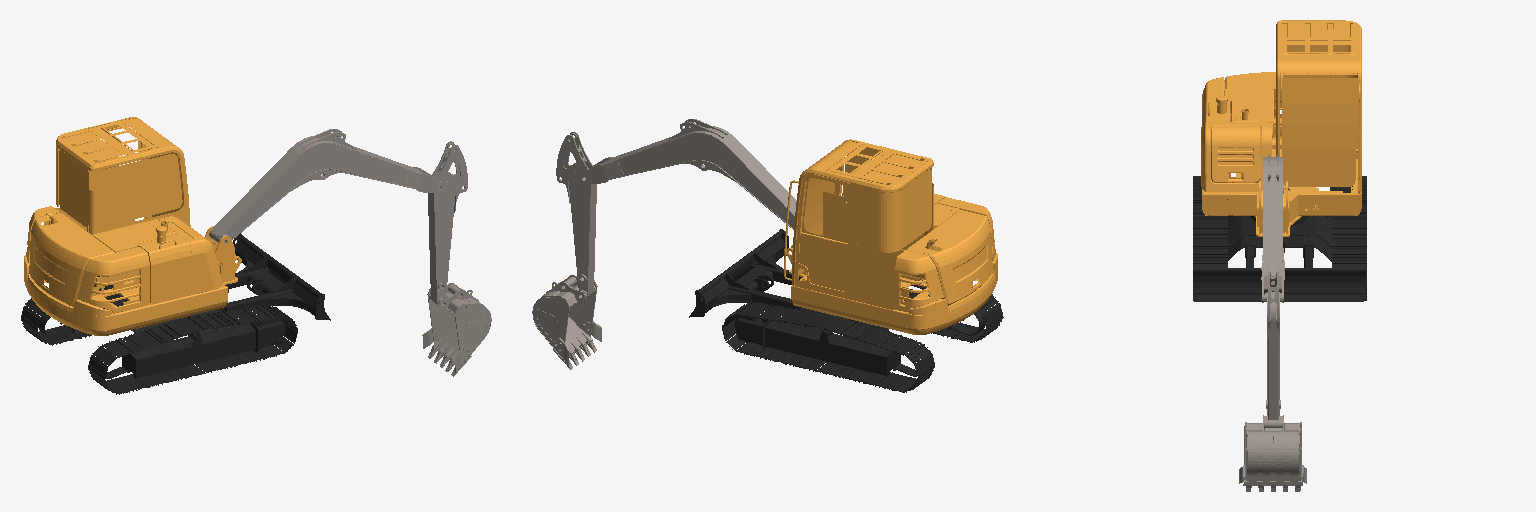
robot.urdf — marm_description:
<robot
  name="marm_description">
  <link
    name="base_link">
    <inertial>
      <origin
        xyz="0.89793 0.0045944 0.30758"
        rpy="0 0 0" />
      <mass
        value="267.05" />
      <inertia
        ixx="155.01"
        ixy="-0.23079"
        ixz="-7.049"
        iyy="160.78"
        iyz="0.044583"
        izz="307.7" />
    </inertial>
    <visual>
      <origin
        xyz="0 0 0"
        rpy="0 0 0" />
      <geometry>
        <mesh
          filename="package://marm_description/meshes/base_link.STL" />
      </geometry>
      <material
        name="">
        <color
          rgba="0.2 0.2 0.2 1" />
      </material>
    </visual>
    <collision>
      <origin
        xyz="0 0 0"
        rpy="0 0 0" />
      <geometry>
        <mesh
          filename="package://marm_description/meshes/base_link.STL" />
      </geometry>
    </collision>
  </link>
  <link
    name="link1">
    <inertial>
      <origin
        xyz="2.5943 -0.055035 0.74987"
        rpy="0 0 0" />
      <mass
        value="1896.7" />
      <inertia
        ixx="718.49"
        ixy="87.982"
        ixz="-301.34"
        iyy="4912.8"
        iyz="23.826"
        izz="4533.7" />
    </inertial>
    <visual>
      <origin
        xyz="0 0 0"
        rpy="0 0 0" />
      <geometry>
        <mesh
          filename="package://marm_description/meshes/link1.STL" />
      </geometry>
      <material
        name="">
        <color
          rgba="1 0.72157 0.32941 1" />
      </material>
    </visual>
    <collision>
      <origin
        xyz="0 0 0"
        rpy="0 0 0" />
      <geometry>
        <mesh
          filename="package://marm_description/meshes/link1.STL" />
      </geometry>
    </collision>
  </link>
  <joint
    name="joint1"
    type="revolute">
    <origin
      xyz="0 0 0.72143"
      rpy="0 0 0" />
    <parent
      link="base_link" />
    <child
      link="link1" />
    <axis
      xyz="0 0 1" />
    <limit
      lower="-3.14"
      upper="3.14"
      effort="0"
      velocity="0" />
  </joint>
  <link
    name="link2">
    <inertial>
      <origin
        xyz="1.4069 0.51583 0.00043141"
        rpy="0 0 0" />
      <mass
        value="1149.7" />
      <inertia
        ixx="62.889"
        ixy="-4.0888"
        ixz="-0.60716"
        iyy="575.38"
        iyz="0.16274"
        izz="629.63" />
    </inertial>
    <visual>
      <origin
        xyz="0 0 0"
        rpy="0 0 0" />
      <geometry>
        <mesh
          filename="package://marm_description/meshes/link2.STL" />
      </geometry>
      <material
        name="">
        <color
          rgba="0.64706 0.61961 0.58824 1" />
      </material>
    </visual>
    <collision>
      <origin
        xyz="0 0 0"
        rpy="0 0 0" />
      <geometry>
        <mesh
          filename="package://marm_description/meshes/link2.STL" />
      </geometry>
    </collision>
  </link>
  <joint
    name="joint2"
    type="revolute">
    <origin
      xyz="0.78 -0.07 0.548"
      rpy="1.5708 0 0" />
    <parent
      link="link1" />
    <child
      link="link2" />
    <axis
      xyz="0 0 1" />
     <limit
      lower="-0.1719"
      upper="1.1526"
      effort="0"
      velocity="0" />
  </joint>
  <link
    name="link3">
    <inertial>
      <origin
        xyz="0.64616 0.054458 1.9617E-05"
        rpy="0 0 0" />
      <mass
        value="308.3" />
      <inertia
        ixx="1.9786"
        ixy="3.3846"
        ixz="0.0039077"
        iyy="62.708"
        iyz="0.00032934"
        izz="63.701" />
    </inertial>
    <visual>
      <origin
        xyz="0 0 0"
        rpy="0 0 0" />
      <geometry>
        <mesh
          filename="package://marm_description/meshes/link3.STL" />
      </geometry>
      <material
        name="">
        <color
          rgba="0.64706 0.61961 0.58824 1" />
      </material>
    </visual>
    <collision>
      <origin
        xyz="0 0 0"
        rpy="0 0 0" />
      <geometry>
        <mesh
          filename="package://marm_description/meshes/link3.STL" />
      </geometry>
    </collision>
  </link>
  <joint
    name="joint3"
    type="revolute">
    <origin
      xyz="3 0 -0.0005"
      rpy="0 0 0" />
    <parent
      link="link2" />
    <child
      link="link3" />
    <axis
      xyz="0 0 1" />
   <limit
      lower="-2.5265"
      upper="-0.5544"
      effort="0"
      velocity="0" />
  </joint>
  <link
    name="link4">
    <inertial>
      <origin
        xyz="0.22788 0.1819 0.02514"
        rpy="0 0 0" />
      <mass
        value="136.04" />
      <inertia
        ixx="8.3836"
        ixy="-0.63526"
        ixz="-0.39851"
        iyy="17.276"
        iyz="0.19387"
        izz="14.026" />
    </inertial>
    <visual>
      <origin
        xyz="0 0 0"
        rpy="0 0 0" />
      <geometry>
        <mesh
          filename="package://marm_description/meshes/link4.STL" />
      </geometry>
      <material
        name="">
        <color
          rgba="0.64706 0.61961 0.58824 1" />
      </material>
    </visual>
    <collision>
      <origin
        xyz="0 0 0"
        rpy="0 0 0" />
      <geometry>
        <mesh
          filename="package://marm_description/meshes/link4.STL" />
      </geometry>
    </collision>
  </link>
  <joint
    name="joint4"
    type="revolute">
    <origin
      xyz="1.55 0 -0.0005"
      rpy="0 0 0" />
    <parent
      link="link3" />
    <child
      link="link4" />
    <axis
      xyz="0 0 1" />
     <limit
      lower="-2.4107"
      upper="0.578"
      effort="0"
      velocity="0" />
  </joint>
  <link
    name="tip_link" />
  <joint
    name="tip_joint"
    type="fixed">
    <origin
      xyz="0.89258 0 0"
      rpy="0 0 0" />
    <parent
      link="link4" />
    <child
      link="tip_link" />
    <axis
      xyz="0 0 0" />
  </joint>
</robot>

--- Facts derived from the render (not from the file) ---
Views: 3 orthographic renders of the robot side by side, from view 1: azimuth 30°, elevation 25°; view 2: azimuth 150°, elevation 25°; view 3: azimuth 270°, elevation 25°.
Model marm_description with 6 links and 5 joints (4 revolute, 1 fixed), rooted at base_link, posed joints at zero except 1 at the middle of their limits (joint3 = -1.54).
Visible links, largest first — view 1: link1, base_link, link2, link4, link3; view 2: link1, base_link, link2, link4, link3; view 3: link1, base_link, link4, link2, link3.
Link boxes in pixels (left/top/right/bottom): link1: left=24, top=117, right=241, bottom=335; base_link: left=21, top=233, right=330, bottom=394; link2: left=209, top=129, right=444, bottom=243; link4: left=422, top=283, right=491, bottom=376; link3: left=428, top=141, right=467, bottom=305; link1: left=784, top=139, right=997, bottom=334; base_link: left=689, top=229, right=1003, bottom=392; link2: left=579, top=119, right=796, bottom=229; link4: left=532, top=275, right=601, bottom=369; link3: left=556, top=132, right=596, bottom=297; link1: left=1201, top=20, right=1361, bottom=236; base_link: left=1193, top=176, right=1366, bottom=301; link4: left=1239, top=415, right=1306, bottom=491; link2: left=1261, top=155, right=1284, bottom=302; link3: left=1264, top=267, right=1282, bottom=419.
Bounding box of the posed robot: 5.99 × 2.02 × 3.78 m (x, y, z).
Meshes: 5 distinct files referenced, 5 mesh visuals loaded (5 binary STL).
